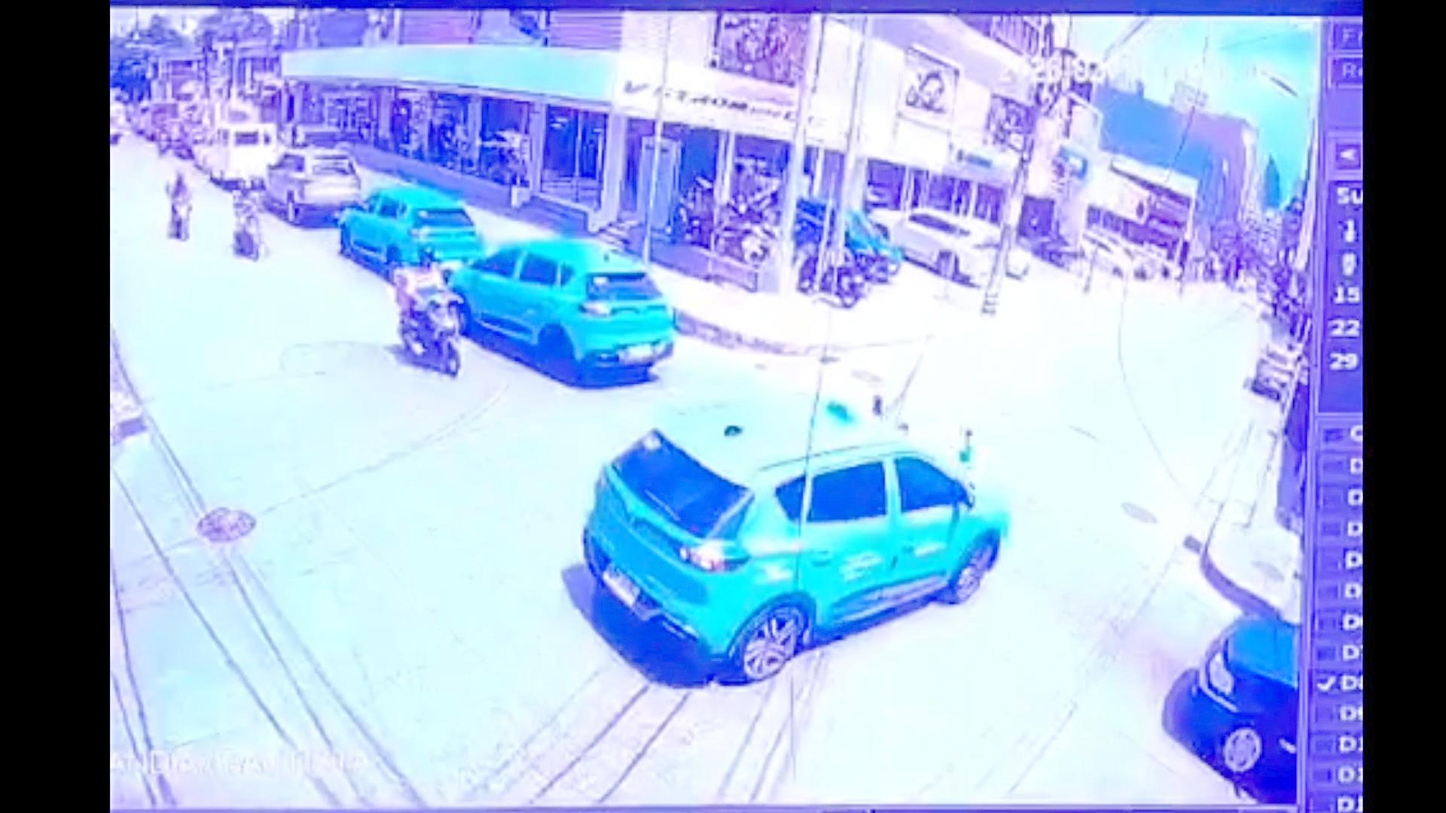Car: (586, 395, 1010, 669), (1164, 605, 1302, 805), (340, 183, 483, 279), (788, 198, 904, 297), (888, 206, 1009, 272), (265, 145, 362, 223), (201, 122, 281, 189), (1078, 228, 1163, 281), (1249, 334, 1307, 402), (145, 101, 186, 149), (1030, 233, 1084, 269), (110, 103, 127, 143)
Minor Accident: (585, 396, 1012, 668)
Motor: (443, 234, 677, 388), (814, 394, 996, 493), (389, 267, 459, 379), (799, 237, 861, 303), (225, 179, 267, 258), (164, 174, 192, 245)
